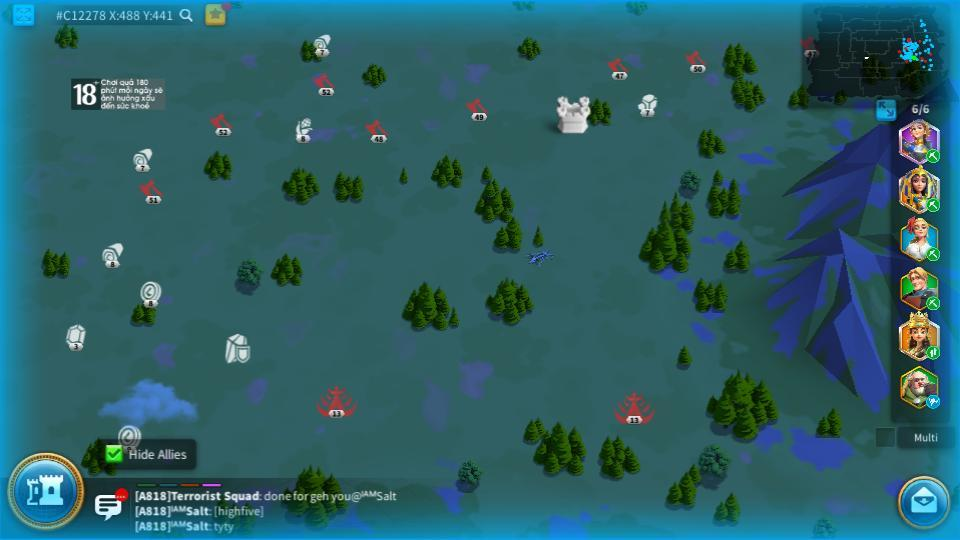gem-z-out: (64, 324, 87, 350)
march_idle: (925, 396, 941, 408)
march_marching: (924, 197, 939, 212), (925, 150, 942, 162), (925, 347, 941, 359)
